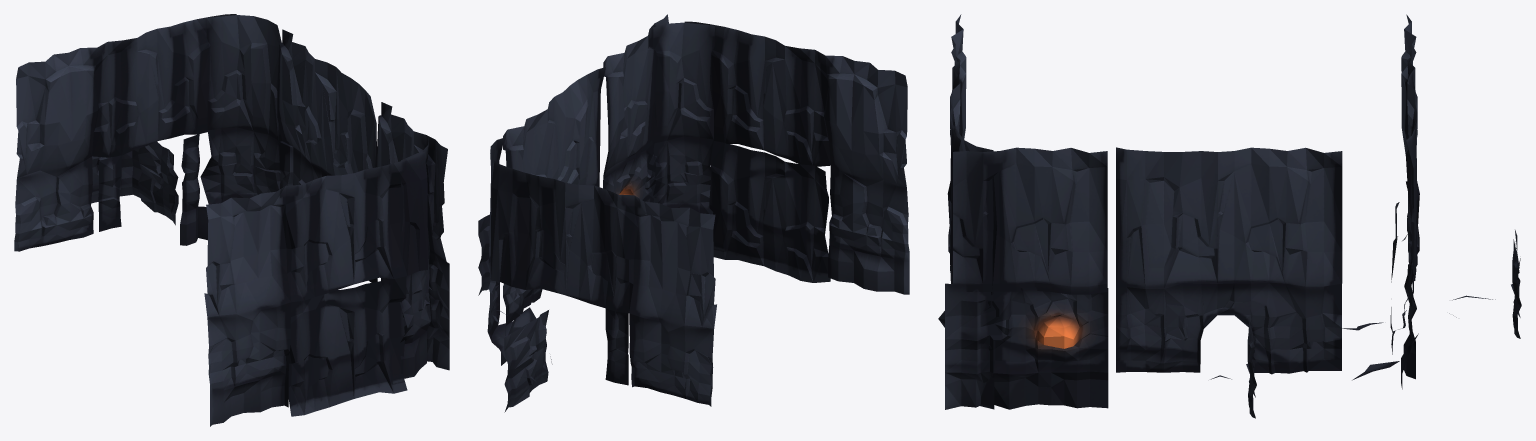
File: Wall_01.FBX
3 views of the same model, side by side, from view 1: azimuth 30°, elevation 25°; view 2: azimuth 150°, elevation 25°; view 3: azimuth 270°, elevation 25° (orthographic). The views are drawn at different scales.
Visible parts, largest first — view 1: Wall_01; view 2: Wall_01; view 3: Wall_01.
Boxes of the visible parts, bbox=[...] form: Wall_01: bbox=[14, 14, 449, 426]; Wall_01: bbox=[478, 14, 909, 412]; Wall_01: bbox=[938, 14, 1521, 418].
Bounding box in the file's own units: 22.23 × 16.2 × 31.32.
